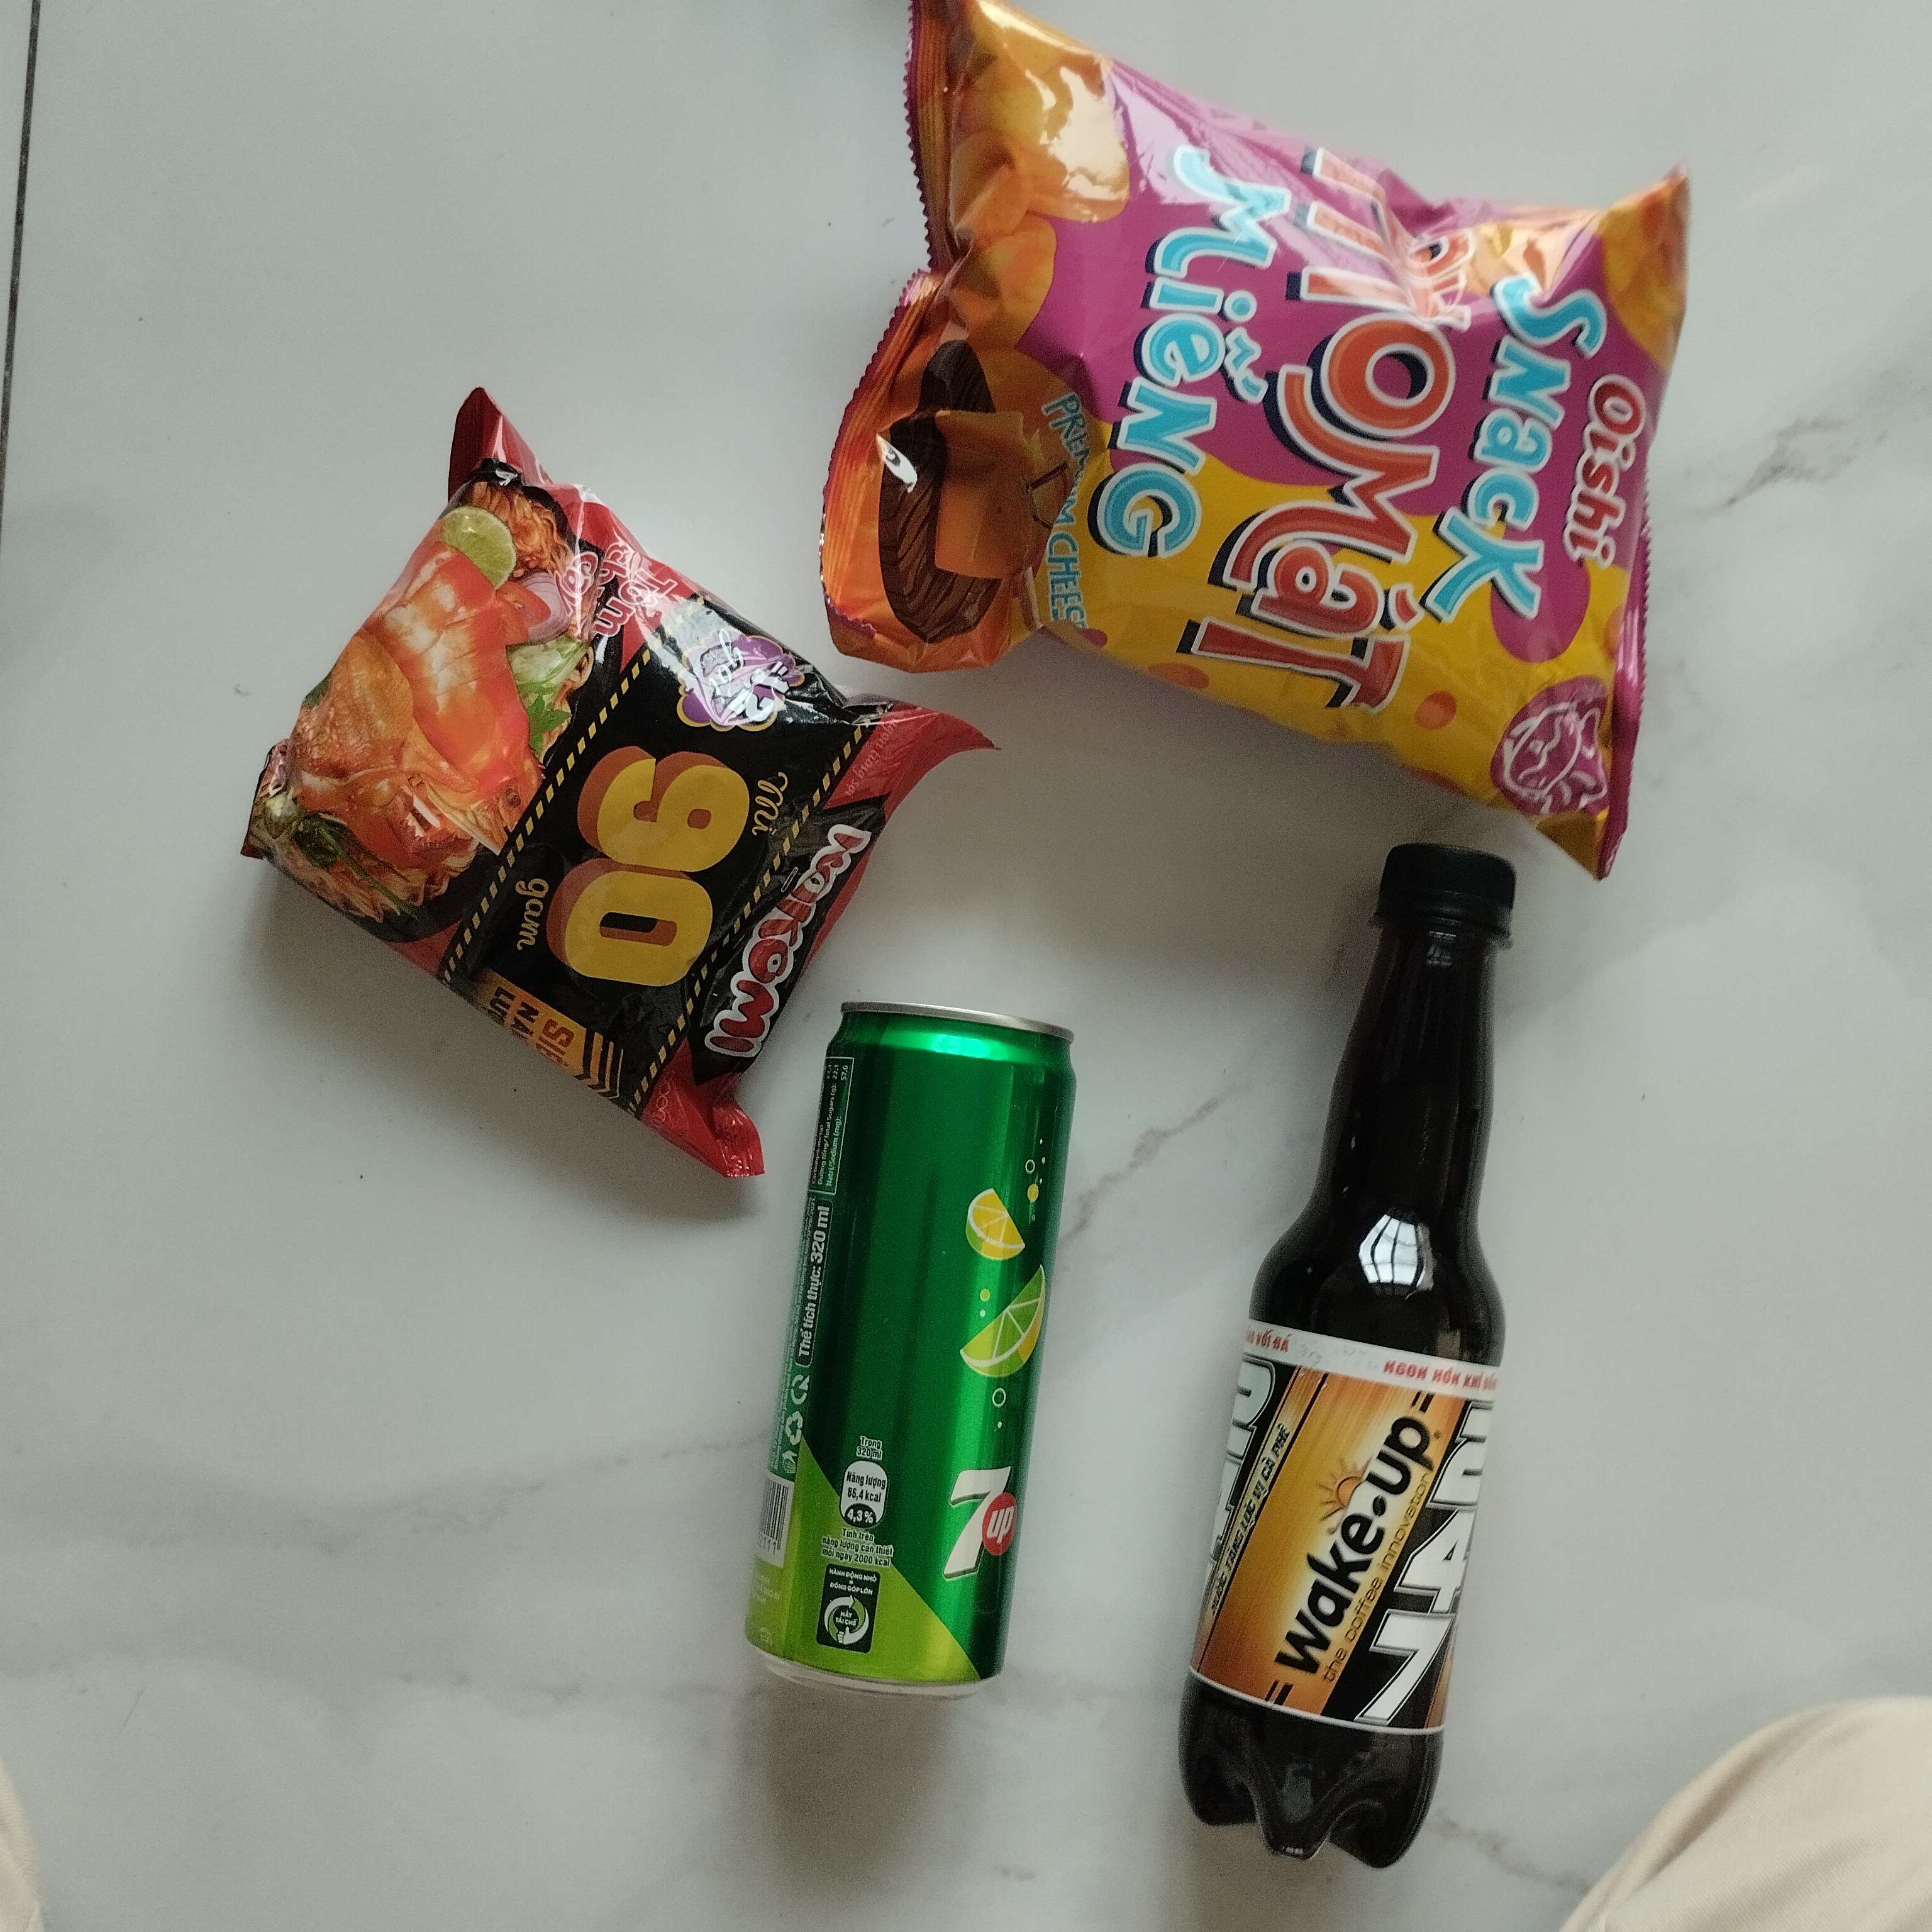247: (1169, 840, 1520, 1882)
7up: (745, 996, 1083, 1711)
Kokomi: (241, 382, 998, 1187)
Oishi_phomat: (801, 16, 1702, 881)
